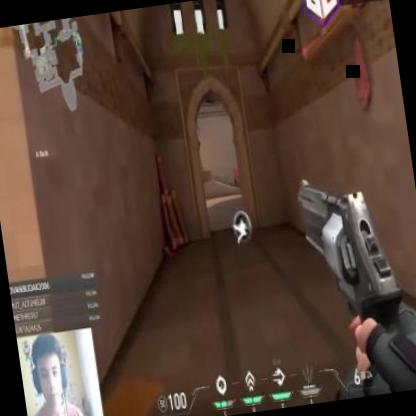enemy: (232, 166, 240, 186)
enemy_head: (233, 166, 236, 172)
